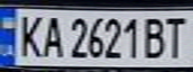1: (121, 15, 142, 60)
2: (66, 13, 90, 60), (103, 15, 124, 61)
6: (84, 15, 109, 60)
A: (39, 12, 66, 59)
B: (139, 15, 172, 60)
K: (12, 11, 45, 58)
T: (160, 12, 193, 60)
